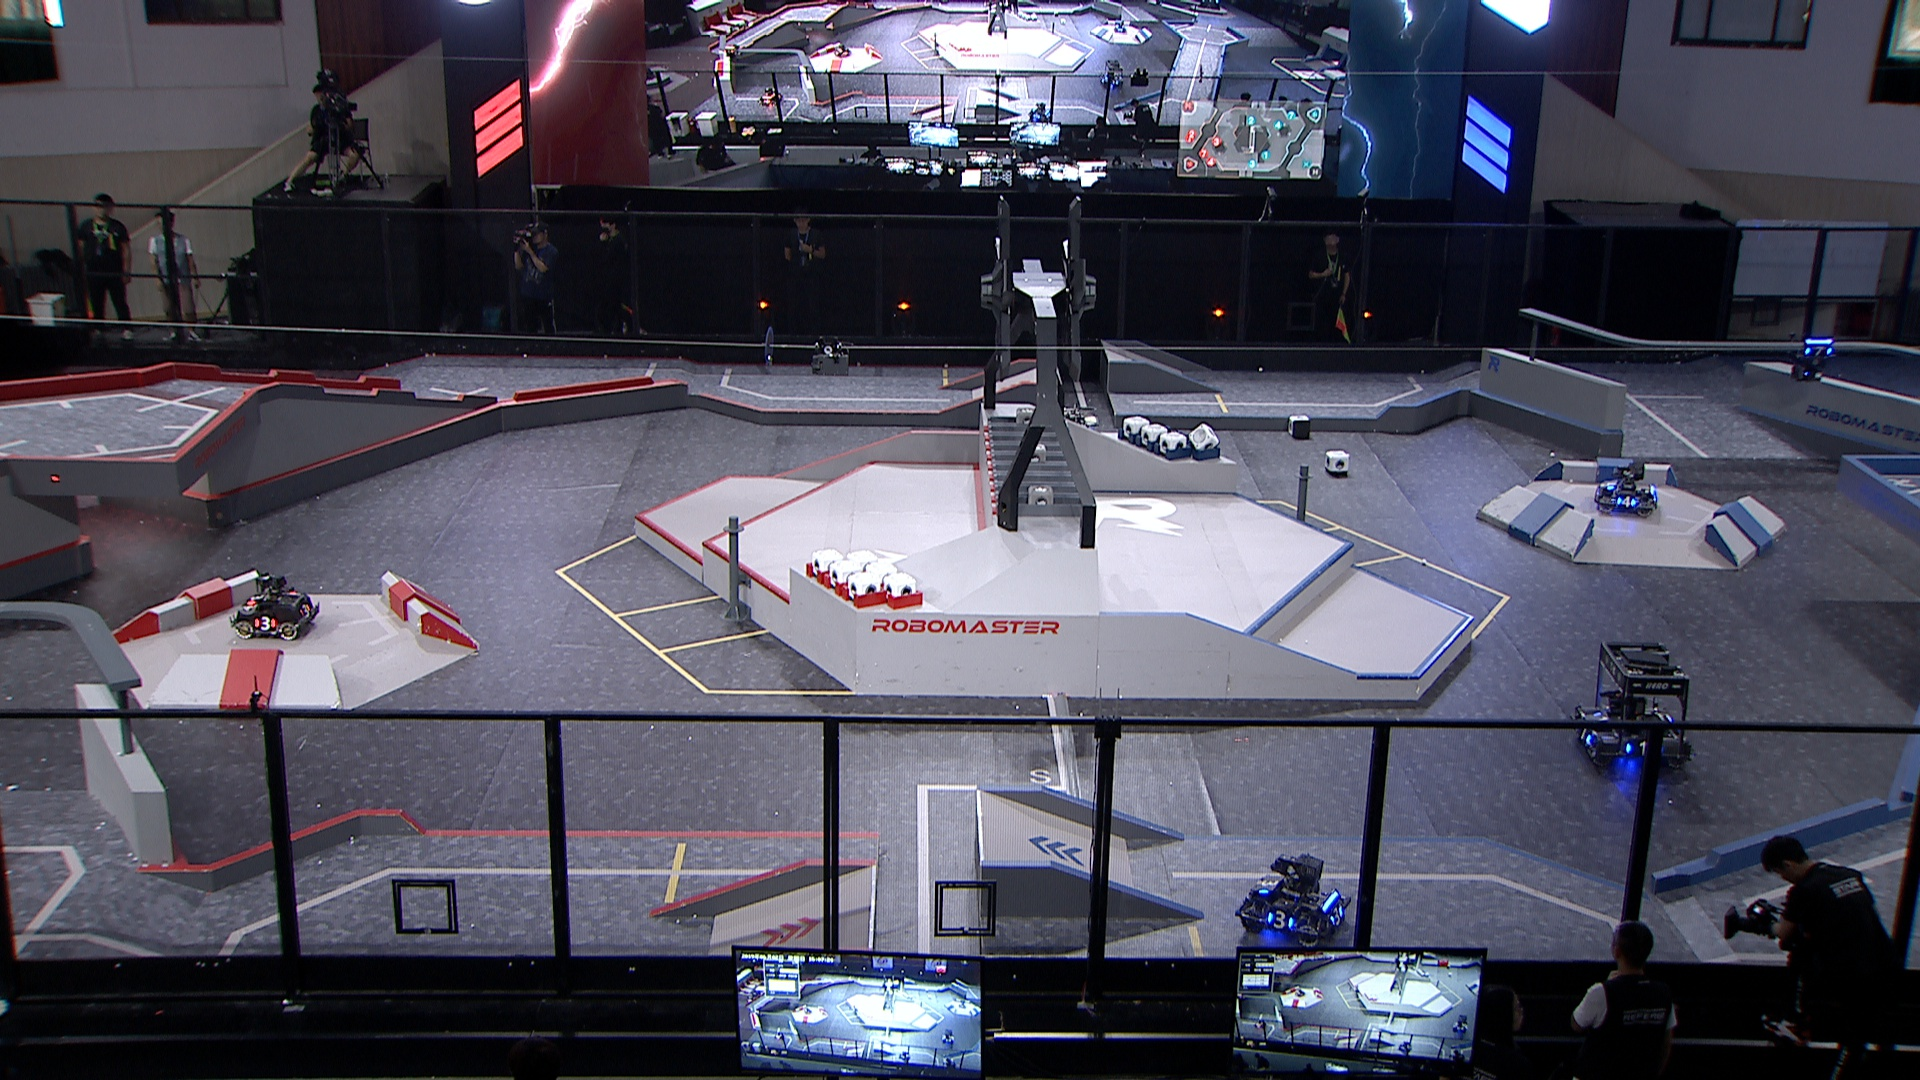armor: (1265, 911, 1295, 932), (1327, 902, 1346, 928), (251, 615, 277, 632), (1257, 876, 1278, 897), (1625, 738, 1648, 757), (1576, 723, 1594, 746), (1803, 345, 1836, 357), (297, 603, 314, 621), (245, 589, 264, 607), (1615, 495, 1636, 508)
car: (1571, 641, 1695, 771), (1232, 851, 1353, 949), (225, 570, 320, 640), (1592, 460, 1659, 520)
ignore: (1100, 58, 1124, 87), (1025, 100, 1054, 123), (760, 84, 785, 107), (1112, 18, 1129, 36), (833, 44, 851, 59), (723, 44, 740, 59)
watcher: (1788, 332, 1836, 382)
